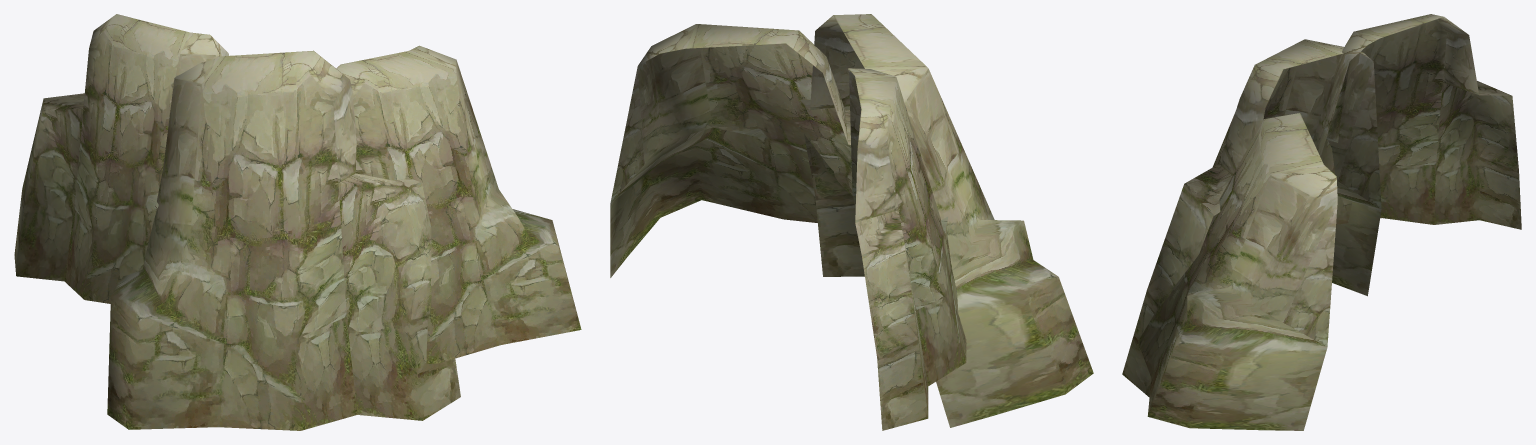
The model's file is zhsly_07.FBX.
The picture shows the model from 3 angles, left to right: view 1: azimuth 30°, elevation 25°; view 2: azimuth 150°, elevation 25°; view 3: azimuth 270°, elevation 25°; orthographic projection. The views are drawn at different scales.
Visible parts, largest first — view 1: zhsly_07; view 2: zhsly_07; view 3: zhsly_07.
Part boxes in pixels (x1,y1,x2,y2): zhsly_07: [14, 14, 581, 430]; zhsly_07: [610, 14, 1093, 430]; zhsly_07: [1122, 14, 1521, 430].
Size of the model in its own units: 988 by 853 by 704.
